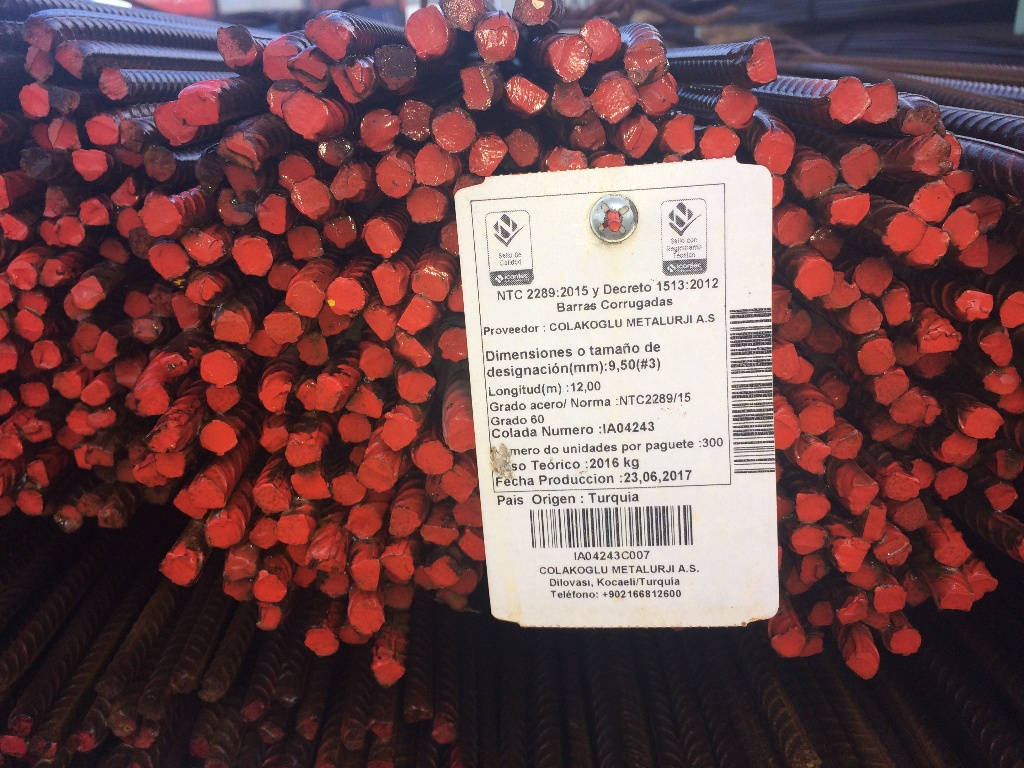dipstick: (331, 53, 381, 104), (826, 75, 872, 126), (281, 92, 329, 140), (474, 14, 520, 64), (305, 14, 351, 61), (592, 76, 639, 122), (217, 128, 266, 172), (623, 40, 669, 86), (154, 101, 199, 148), (547, 35, 590, 84), (406, 13, 451, 59), (374, 42, 415, 92), (289, 46, 331, 93), (839, 142, 881, 189), (793, 155, 838, 198), (909, 178, 953, 221), (580, 17, 621, 63), (862, 78, 899, 128), (215, 25, 258, 68), (637, 73, 679, 117), (176, 85, 221, 126), (415, 143, 456, 188), (374, 152, 413, 199), (211, 305, 255, 346), (753, 131, 794, 175), (908, 224, 950, 266), (140, 195, 183, 236), (432, 110, 475, 151), (794, 258, 835, 301), (149, 242, 191, 283), (232, 235, 273, 277), (885, 211, 926, 253), (912, 133, 952, 176), (360, 109, 399, 153), (506, 75, 550, 114), (716, 83, 755, 127), (311, 525, 346, 573), (744, 36, 778, 85), (182, 228, 227, 265), (19, 147, 65, 183), (156, 549, 198, 588), (292, 177, 330, 220), (398, 99, 435, 143), (222, 553, 255, 602), (284, 279, 324, 319), (857, 337, 897, 377), (205, 512, 246, 551), (468, 137, 509, 176), (855, 255, 894, 296), (445, 407, 479, 454), (944, 207, 979, 252), (223, 162, 262, 202), (199, 419, 239, 458), (407, 186, 447, 225), (821, 271, 861, 310), (622, 116, 659, 158), (460, 66, 494, 111), (364, 218, 402, 258), (358, 456, 399, 493), (263, 39, 298, 82), (829, 192, 872, 227), (328, 276, 366, 315), (381, 412, 418, 452), (398, 296, 436, 334), (568, 114, 606, 152), (276, 155, 316, 191), (251, 481, 292, 516), (413, 440, 454, 475), (397, 371, 438, 406), (267, 80, 304, 118), (441, 465, 477, 504), (200, 351, 240, 386), (372, 263, 406, 304), (901, 99, 938, 136), (828, 425, 865, 462), (314, 560, 350, 598), (701, 126, 739, 162), (849, 296, 884, 335), (332, 160, 365, 201), (663, 113, 696, 154), (963, 408, 1004, 441), (777, 210, 814, 246), (834, 537, 870, 574), (71, 149, 109, 184), (410, 267, 449, 301), (979, 329, 1013, 368), (196, 149, 226, 193), (258, 374, 290, 415), (291, 469, 332, 501), (348, 603, 389, 635), (889, 389, 925, 425), (395, 331, 432, 366), (333, 469, 367, 507), (347, 385, 385, 419), (54, 41, 87, 80), (71, 275, 107, 310), (942, 429, 977, 465), (21, 15, 55, 52), (265, 312, 303, 345), (552, 81, 585, 119), (23, 44, 55, 83), (360, 344, 392, 383), (807, 323, 846, 355), (252, 570, 288, 604), (287, 226, 323, 260), (875, 369, 911, 403), (933, 467, 969, 501), (188, 477, 226, 509), (346, 507, 381, 541), (801, 402, 836, 436), (796, 441, 830, 476), (133, 454, 169, 487), (968, 197, 1004, 230), (144, 146, 176, 183), (171, 293, 203, 330), (778, 307, 810, 344), (378, 579, 416, 610), (920, 325, 959, 355), (323, 214, 357, 248), (47, 118, 82, 151), (204, 384, 241, 415), (795, 493, 830, 525), (543, 146, 586, 172), (438, 326, 469, 362), (956, 289, 992, 320), (143, 422, 180, 452), (508, 129, 538, 166), (884, 287, 911, 328), (97, 68, 130, 101), (10, 309, 43, 342), (296, 332, 328, 366), (275, 514, 309, 546), (247, 328, 282, 359), (173, 489, 208, 520), (349, 557, 380, 592), (425, 557, 460, 588), (848, 479, 879, 514), (286, 436, 322, 466), (365, 305, 395, 341), (960, 233, 990, 269), (319, 304, 351, 337), (381, 552, 413, 585), (19, 83, 50, 117), (885, 470, 919, 501), (319, 138, 354, 168), (304, 628, 339, 658), (370, 659, 406, 688), (388, 506, 420, 538), (770, 344, 800, 378), (791, 526, 826, 555), (187, 278, 223, 306), (874, 537, 910, 565), (259, 195, 286, 232), (339, 413, 371, 444), (48, 84, 81, 114), (86, 115, 119, 145), (30, 341, 63, 371), (452, 497, 485, 527), (135, 388, 170, 416), (893, 503, 928, 531), (983, 367, 1019, 394), (770, 631, 806, 658), (319, 371, 342, 413), (40, 258, 71, 289), (249, 518, 280, 549), (55, 216, 87, 246), (78, 198, 111, 227), (154, 451, 187, 480), (985, 484, 1018, 513), (941, 585, 974, 614), (420, 523, 459, 547), (935, 542, 971, 568), (111, 176, 141, 207), (7, 258, 38, 288), (267, 262, 299, 291), (119, 119, 146, 153), (53, 371, 83, 401), (42, 185, 71, 216), (838, 593, 866, 625), (875, 587, 908, 614), (891, 627, 921, 656), (148, 289, 176, 320), (459, 529, 485, 562), (17, 489, 46, 518), (1, 212, 29, 242), (133, 317, 164, 344), (66, 409, 97, 436), (18, 381, 50, 407), (97, 503, 129, 529), (296, 377, 320, 411), (996, 447, 1020, 481), (39, 220, 67, 249), (80, 379, 109, 407), (129, 228, 156, 258), (54, 504, 81, 534), (255, 602, 282, 632), (115, 360, 143, 388), (75, 322, 101, 352), (22, 418, 54, 442), (862, 509, 885, 542), (845, 656, 878, 679), (260, 426, 288, 453), (63, 293, 92, 319), (116, 208, 142, 237), (17, 291, 48, 315), (26, 460, 51, 489), (449, 569, 478, 594), (95, 333, 119, 363), (101, 239, 129, 264), (85, 445, 116, 467), (808, 601, 834, 627), (124, 291, 151, 316), (56, 425, 83, 450), (160, 353, 189, 376), (337, 623, 370, 643), (292, 564, 316, 589), (286, 542, 310, 567), (128, 443, 153, 466), (88, 409, 116, 429), (78, 491, 101, 515), (115, 460, 139, 482), (74, 446, 91, 471)
